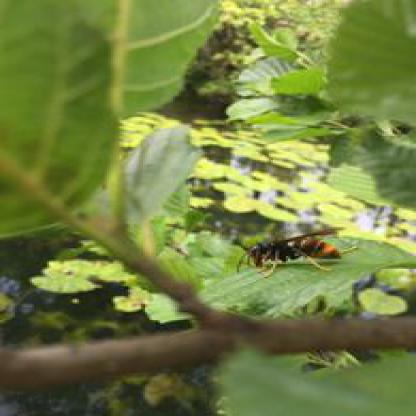Asian Hornet: (238, 222, 358, 281)
